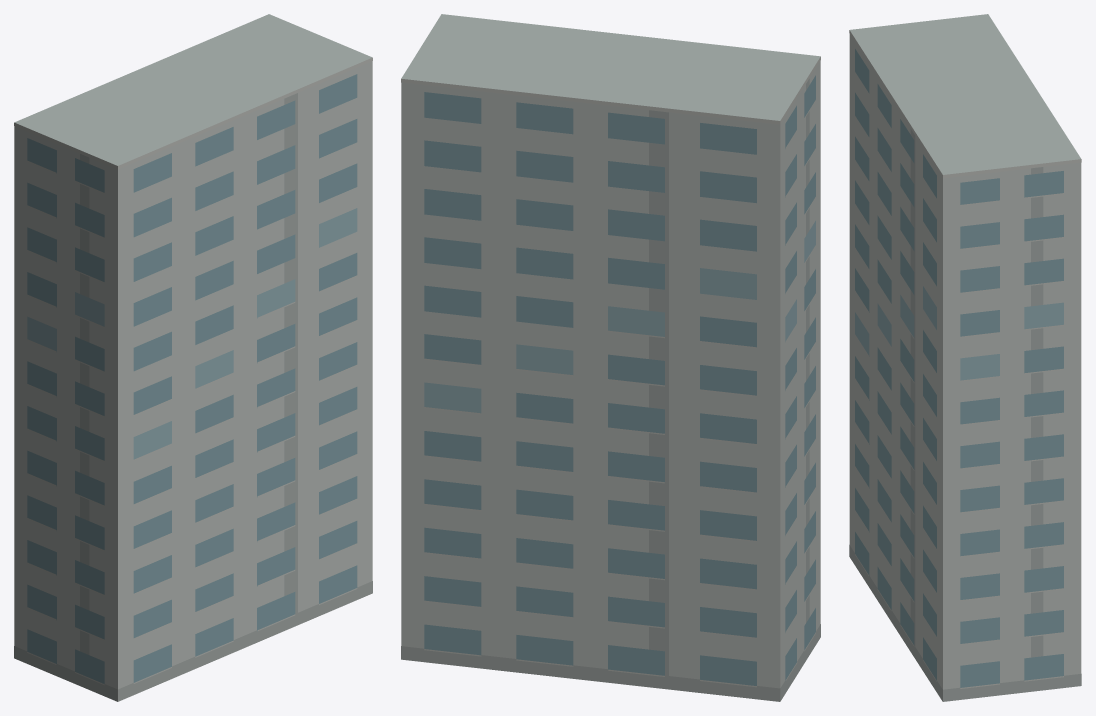
The model's file is residential-6a33e292-cb38-4957-bb17-1fccca387433.glb.
The picture shows the model from 3 angles, left to right: view 1: azimuth 30°, elevation 25°; view 2: azimuth 150°, elevation 25°; view 3: azimuth 270°, elevation 25°; orthographic projection. The views are drawn at different scales.
Parts seen in each view (by area): view 1: residential-6a33e292-cb38-4957-bb17-1fccca387433.tmp; view 2: residential-6a33e292-cb38-4957-bb17-1fccca387433.tmp; view 3: residential-6a33e292-cb38-4957-bb17-1fccca387433.tmp.
Boxes of the visible parts, x1,y1,x2,y2 form: residential-6a33e292-cb38-4957-bb17-1fccca387433.tmp: (14, 14, 372, 701); residential-6a33e292-cb38-4957-bb17-1fccca387433.tmp: (401, 14, 820, 701); residential-6a33e292-cb38-4957-bb17-1fccca387433.tmp: (849, 14, 1081, 701).
Size of the model in its own units: 24.25 by 37 by 14.77.
